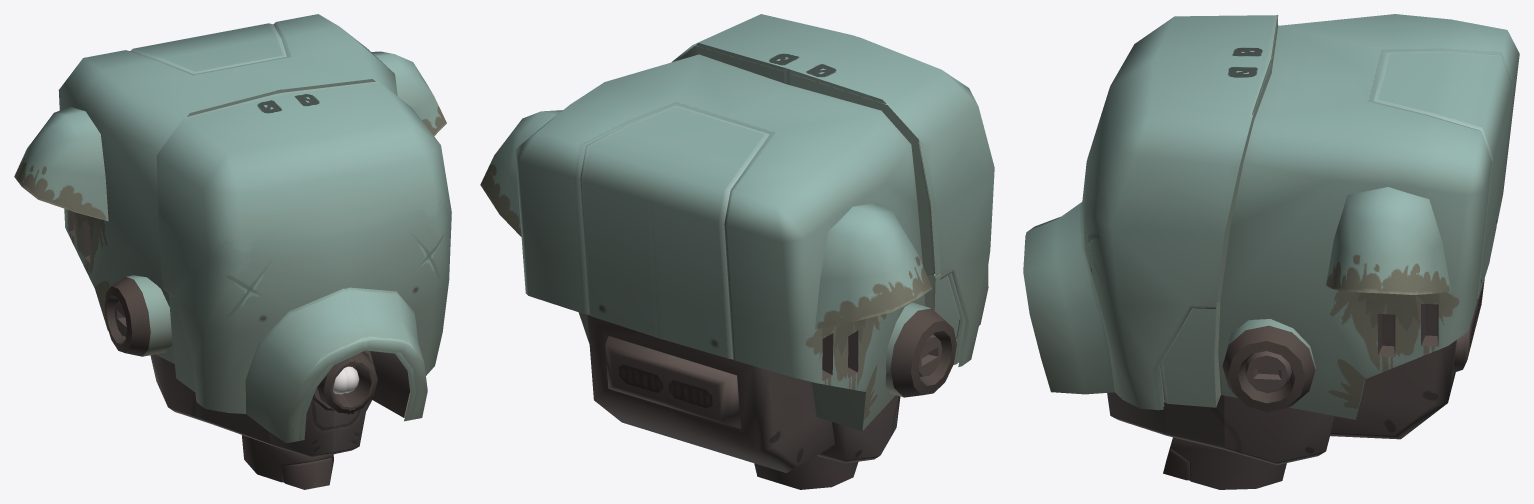
Rendered from head.obj.
3 renders of one model, left to right at view 1: azimuth 30°, elevation 25°; view 2: azimuth 150°, elevation 25°; view 3: azimuth 270°, elevation 25°, orthographic. The views are drawn at different scales.
Visible parts, largest first — view 1: Cube; view 2: Cube; view 3: Cube.
Part boxes in pixels (box(x1,y1,x2,y2)): Cube: box(14, 14, 451, 489); Cube: box(480, 14, 994, 489); Cube: box(1023, 14, 1519, 489).
Size of the model in its own units: 1.84 by 1.62 by 1.76.
Materials: 1 (1 with a texture image).
